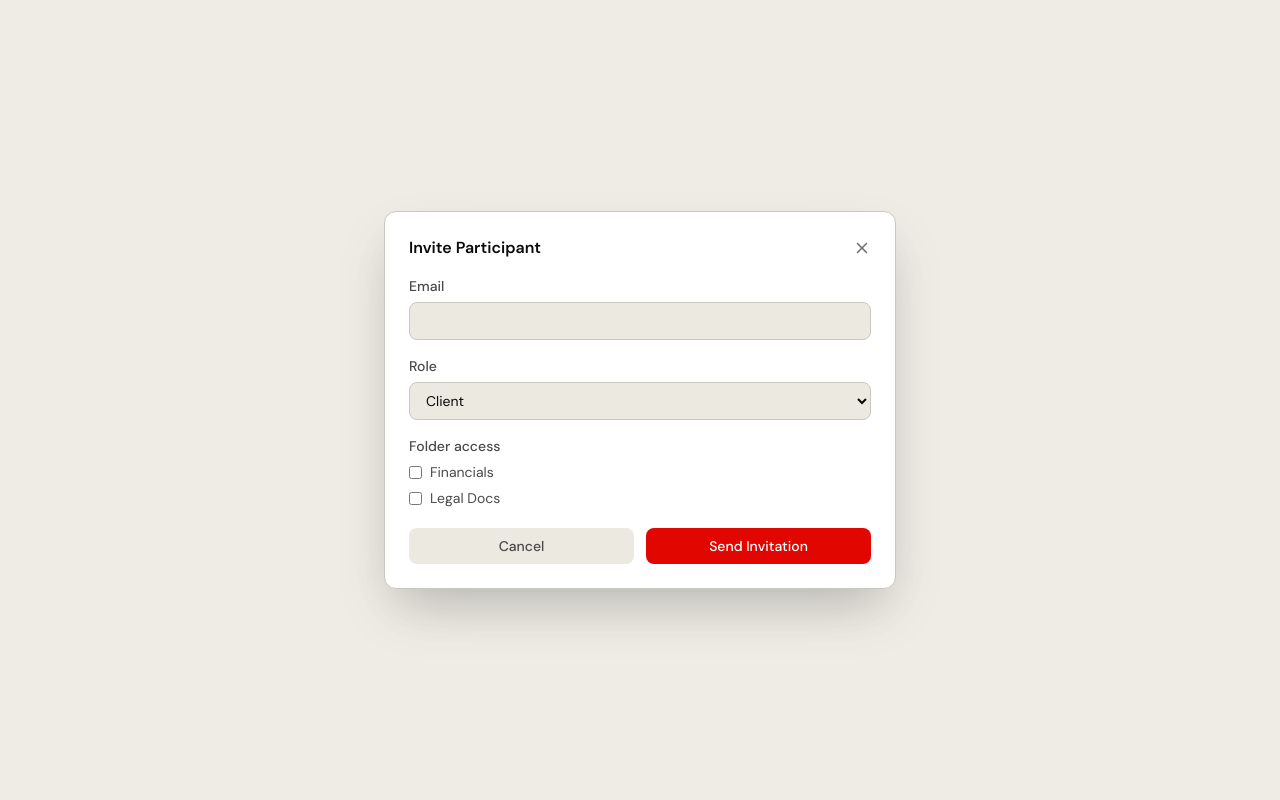
Test case: ParticipantFormModal — invite mode › surfaces server error message on 400
This screenshot has width=1280, height=800.
Type "x@y.com" into the field labelled "Email".
click(640, 321); type("x@y.com")  # box [409, 302, 871, 340]
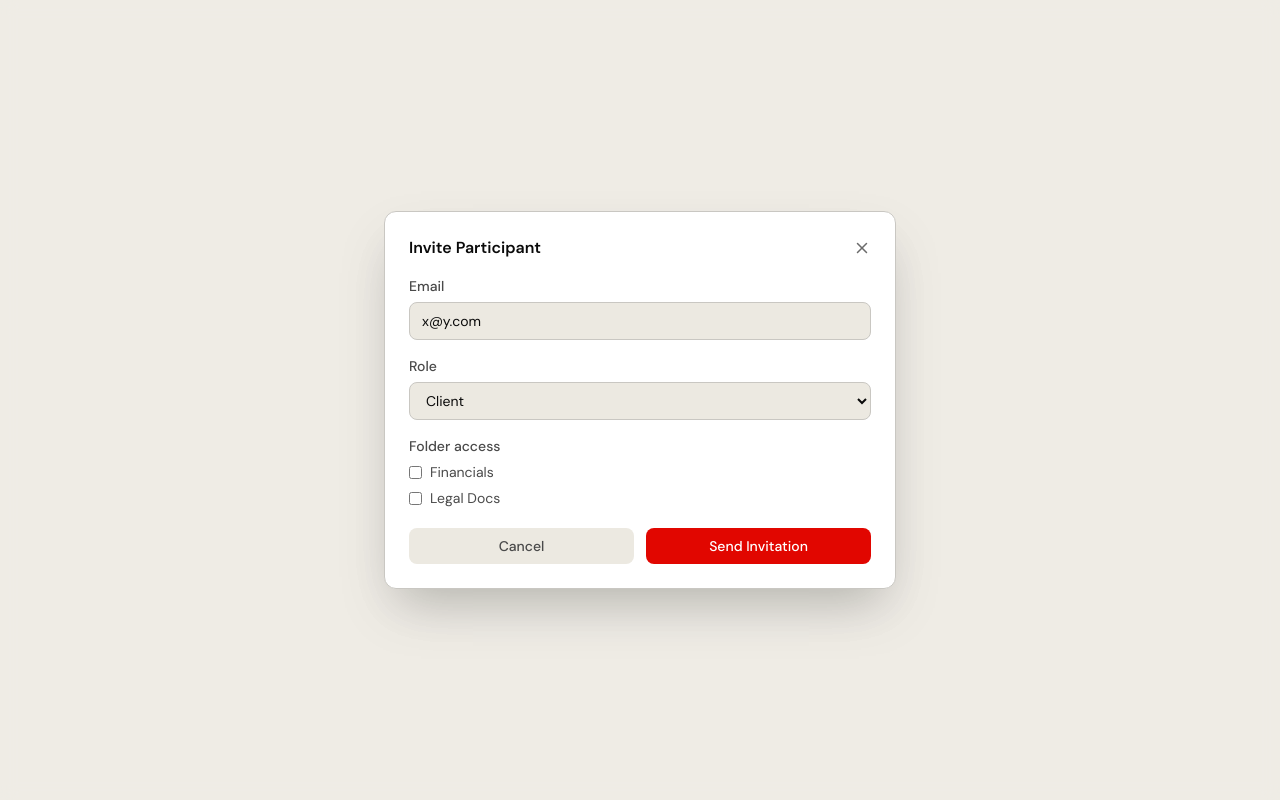
Select "Client" in the dropdown labelled "Role" at (640, 401), box [409, 382, 871, 420]
Click the button "Send Invitation".
click(758, 546)  # box [646, 528, 871, 564]
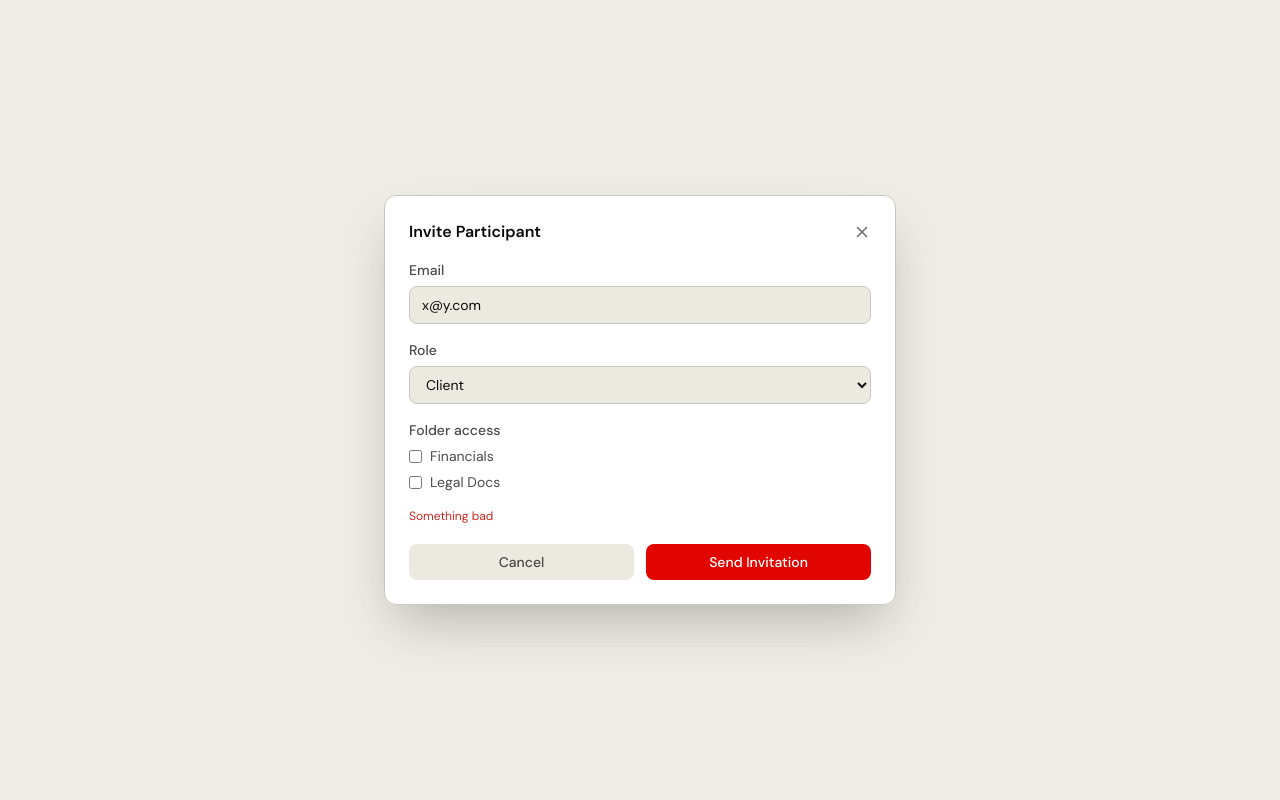
Expected: the text "Something bad" is shown, [409, 508, 493, 524]
